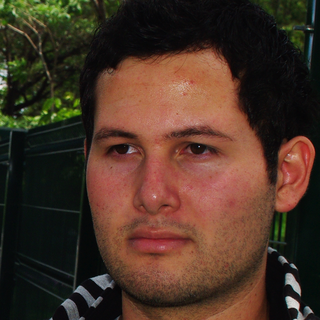eye: (172, 136, 225, 162), (97, 139, 149, 162)
